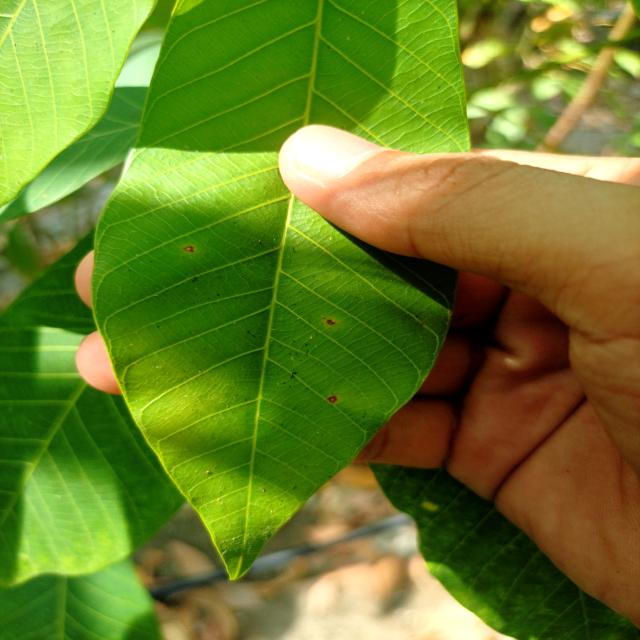Colletotrichum: (327, 396, 338, 402), (184, 246, 193, 252)
